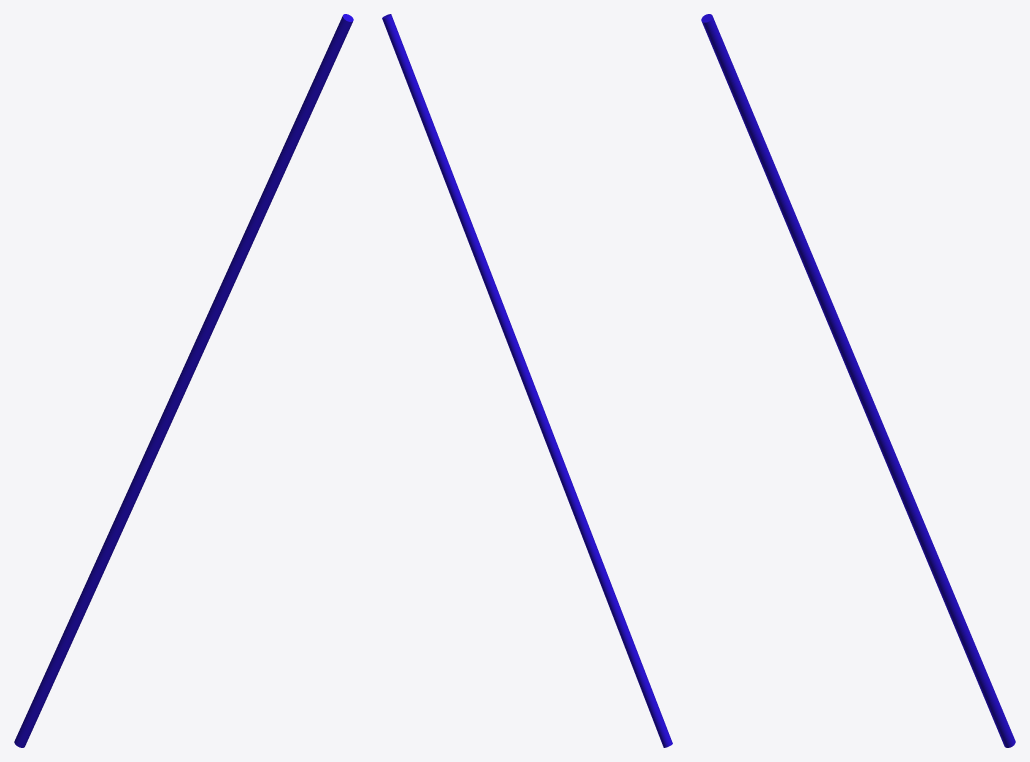
3 renders of one model, left to right at view 1: azimuth 30°, elevation 25°; view 2: azimuth 210°, elevation 25°; view 3: azimuth 270°, elevation 25°, orthographic. The views are drawn at different scales.
Parts seen in each view (by area): view 1: Циліндр.008; view 2: Циліндр.008; view 3: Циліндр.008.
Part boxes in pixels (x1,y1,x2,y2): Циліндр.008: [14, 14, 353, 747]; Циліндр.008: [382, 14, 672, 747]; Циліндр.008: [701, 14, 1015, 747].
Size of the model in its own units: 1.81 by 7.12 by 2.46.
